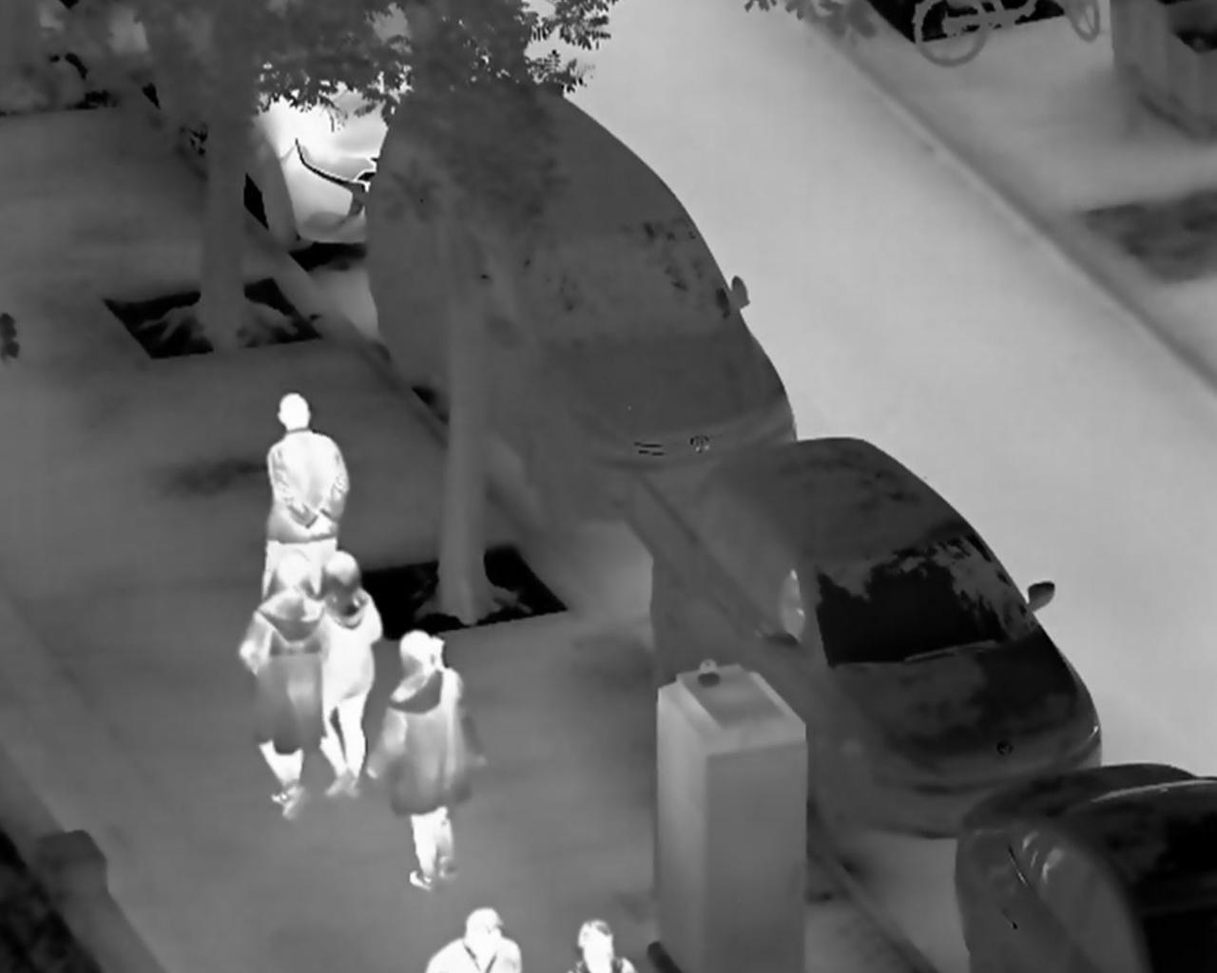person: (366, 631, 480, 892), (239, 551, 330, 821), (257, 391, 351, 600), (314, 548, 380, 803)
